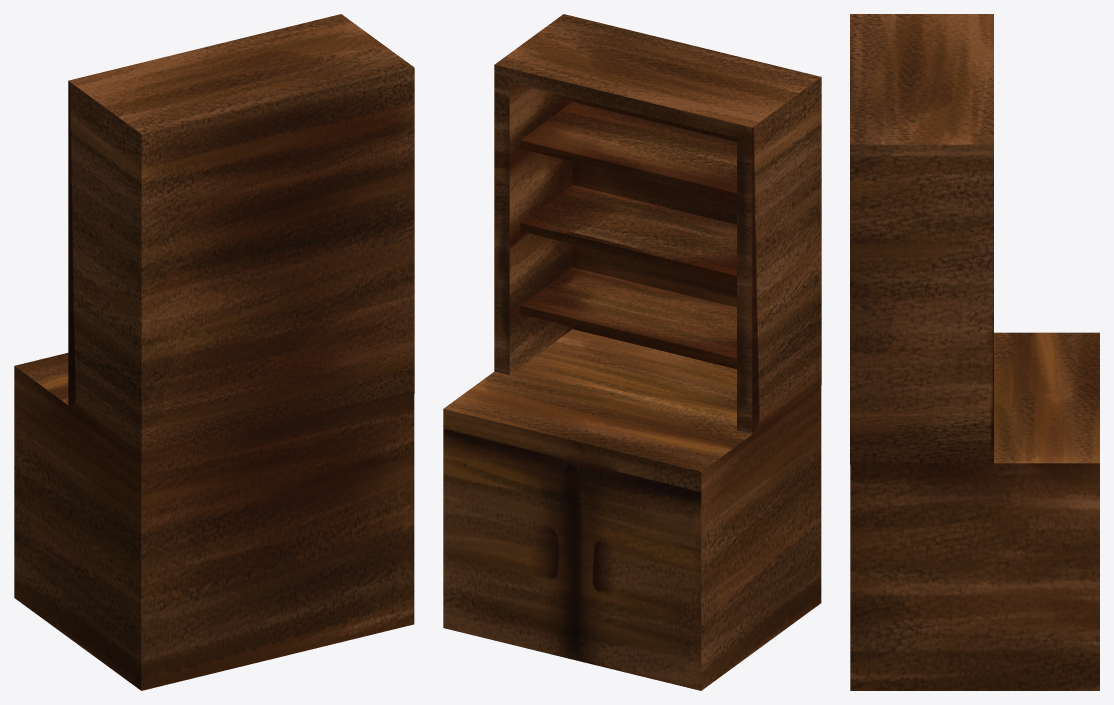
The model's file is Showcase_tall_M.FBX.
3 views of the same model, side by side, from view 1: azimuth 30°, elevation 25°; view 2: azimuth 150°, elevation 25°; view 3: azimuth 270°, elevation 25° (orthographic). The views are drawn at different scales.
Parts seen in each view (by area): view 1: Showcase_tall_M; view 2: Showcase_tall_M; view 3: Showcase_tall_M.
Part boxes in pixels (x1=…): Showcase_tall_M: x1=14, y1=14, x2=414, y2=690; Showcase_tall_M: x1=443, y1=14, x2=821, y2=690; Showcase_tall_M: x1=850, y1=14, x2=1099, y2=690.
Bounding box in the file's own units: 83.14 × 162 × 67.18.
Materials: 1 (1 with a texture image).
